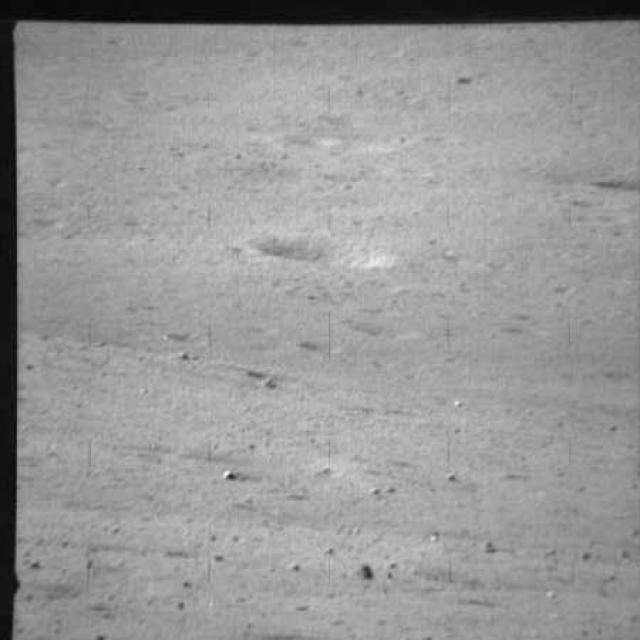crater: (241, 228, 401, 272), (356, 313, 424, 346), (330, 139, 406, 161), (284, 334, 346, 358), (281, 131, 338, 152), (158, 321, 202, 345)
rock: (343, 560, 382, 584), (167, 348, 202, 366), (364, 483, 397, 498), (475, 539, 505, 555), (221, 466, 240, 482), (444, 471, 461, 482)
